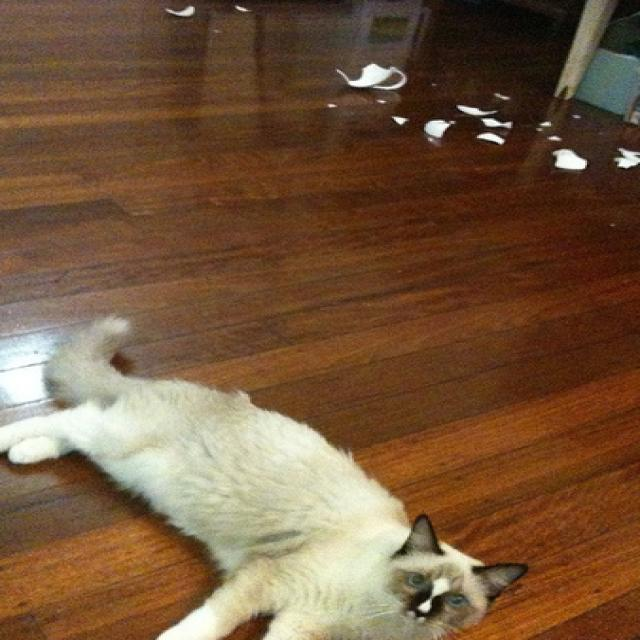Ragdoll: (0, 313, 538, 640)
